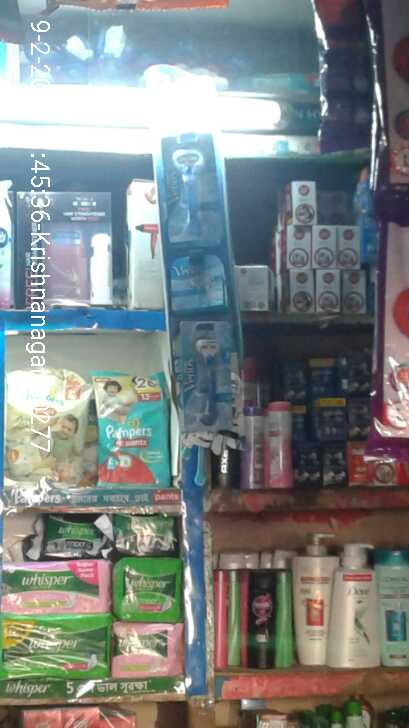beauty: (151, 132, 221, 251), (181, 324, 238, 440), (160, 259, 227, 307)
pharmacy: (8, 369, 91, 492), (98, 373, 169, 487), (1, 618, 106, 679), (6, 564, 105, 617), (111, 557, 186, 619), (109, 629, 184, 677), (42, 512, 114, 562), (110, 512, 182, 556)
